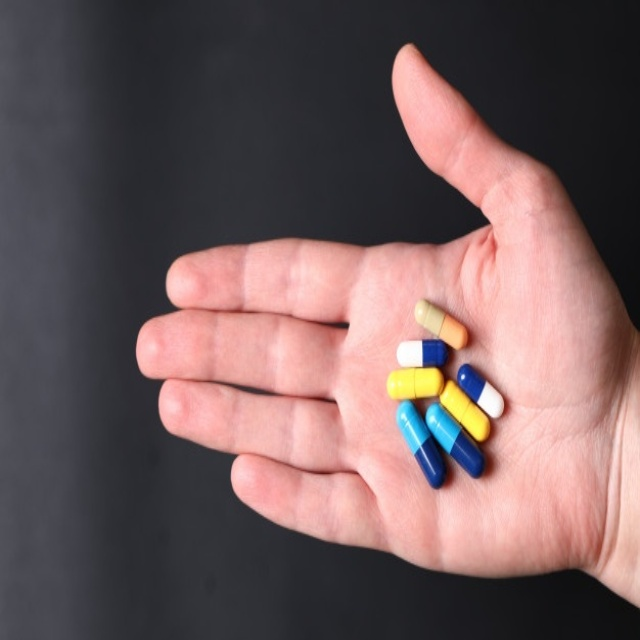pill: (416, 262, 476, 312), (387, 261, 437, 320), (430, 248, 480, 289), (405, 194, 459, 229), (447, 236, 493, 273), (377, 240, 435, 261), (389, 219, 440, 242)
